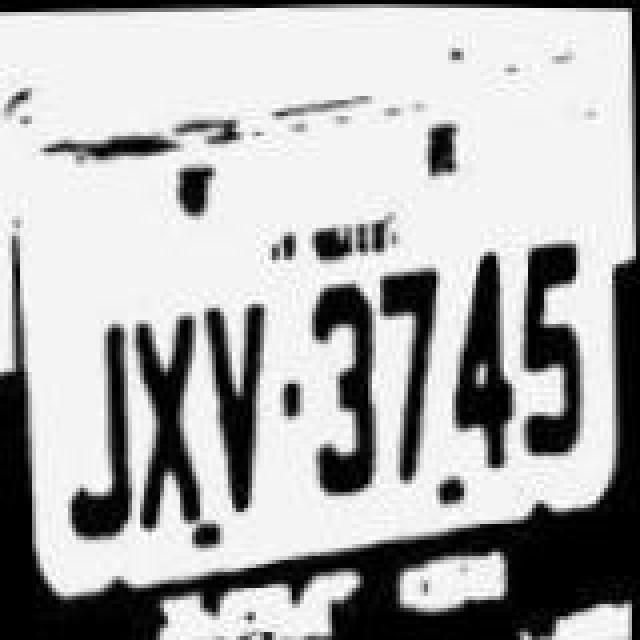3: (302, 266, 382, 510)
4: (440, 220, 520, 468)
5: (508, 218, 588, 466)
7: (370, 256, 450, 480)
J: (62, 296, 138, 540)
V: (198, 284, 278, 508)
X: (128, 298, 208, 526)
